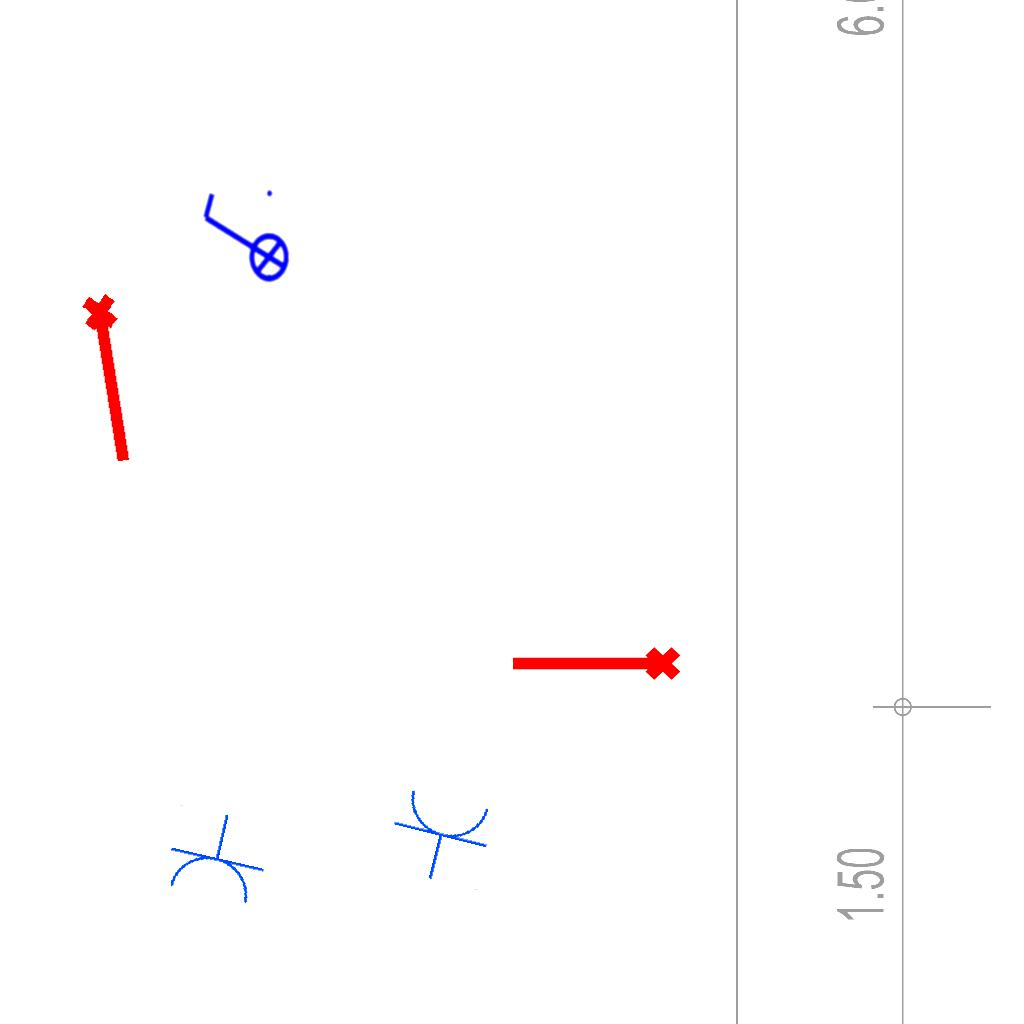ASR_Ansaugoeffnung: (76, 288, 150, 470), (507, 643, 683, 689)
Ausschalter_beleuchtet: (195, 184, 291, 296)
Schukosteckdose_einfach: (381, 783, 501, 892), (158, 802, 276, 911)
